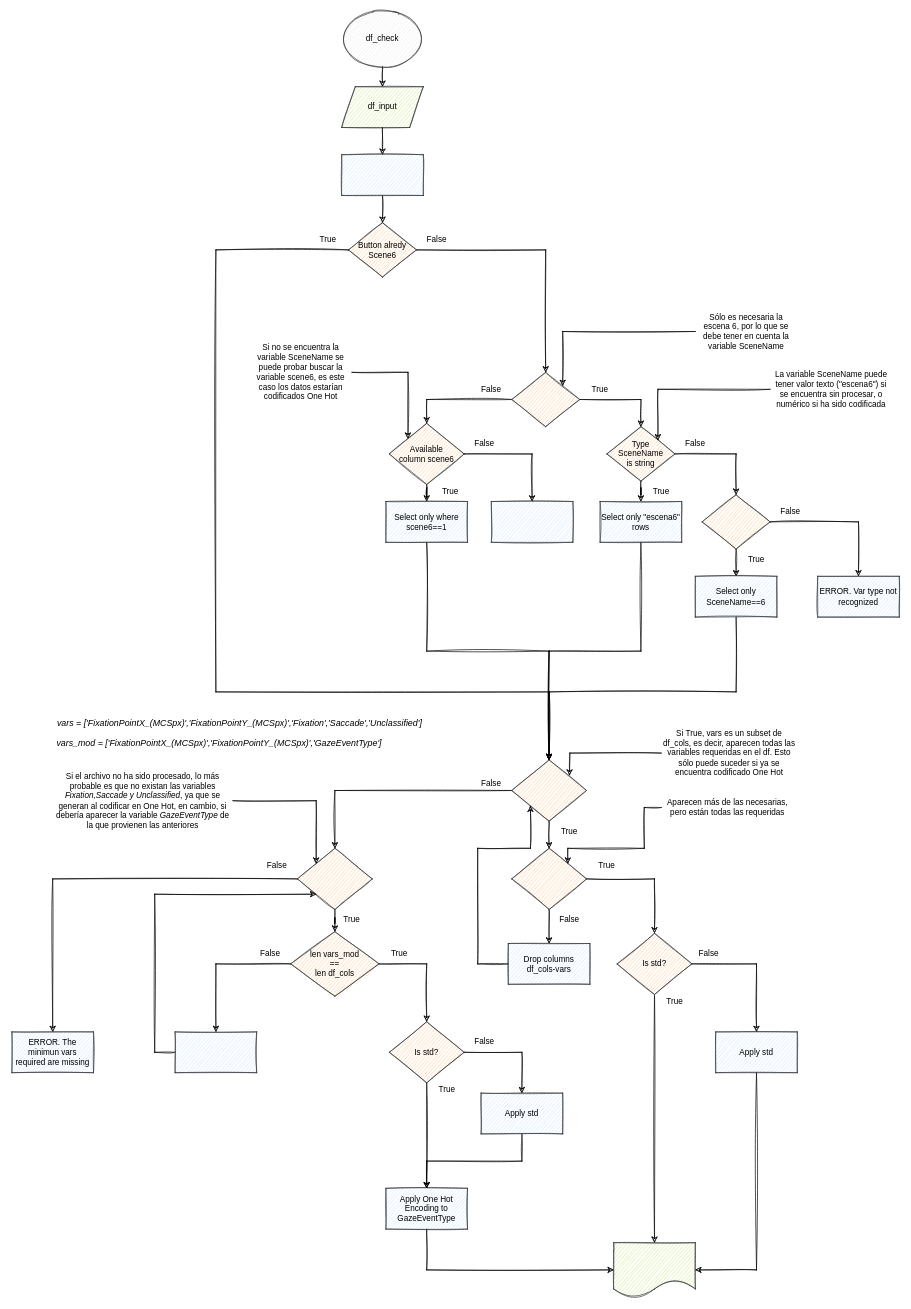
This 911x1309 diagram has some shape labels left out. The centre of each missing label's shape, as x and y in pixels:
"Available SceneName" belongs at pixel 545 399.
"Drop columns df_cols-vars_mod" belongs at pixel 215 1052.
"ERROR. It is required some scene indicator" belongs at pixel 532 521.
"len vars == len df_cols" belongs at pixel 548 879.
"Rename cols (_)" belongs at pixel 382 175.
"Return df" belongs at pixel 654 1269.
"Type SceneName is int" belongs at pixel 735 521.
"vars is subset of df_cols" belongs at pixel 548 790.
"vars_mod is subset of df_cols" belongs at pixel 334 879.
